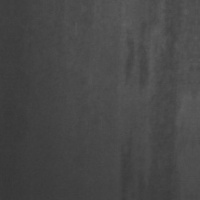inclusion: (144, 12, 189, 193), (119, 14, 157, 100), (116, 127, 139, 192)
